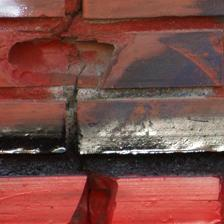Crack: (3, 6, 115, 84), (26, 0, 77, 81)
